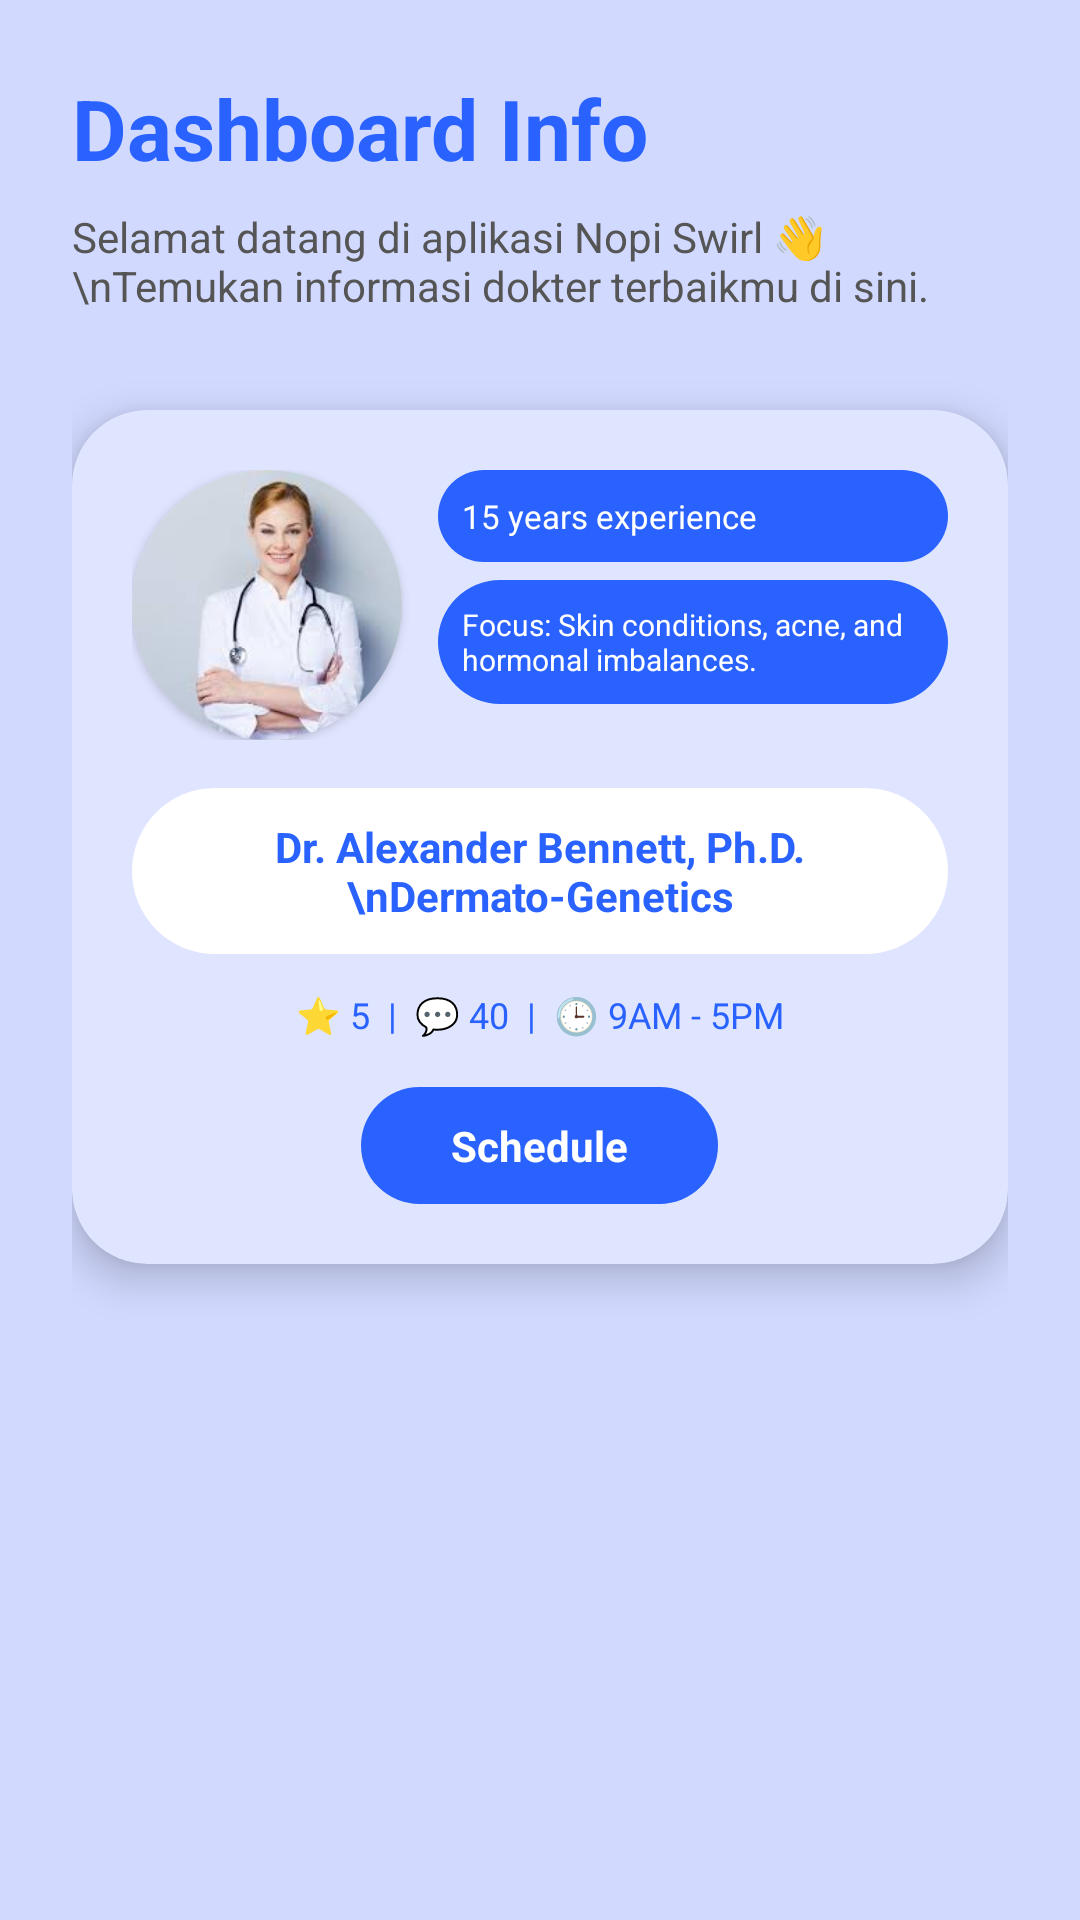

Icons on this 1080×1920 Android screen, each with the point to tap as (x,y):
dokter: (267,605)
